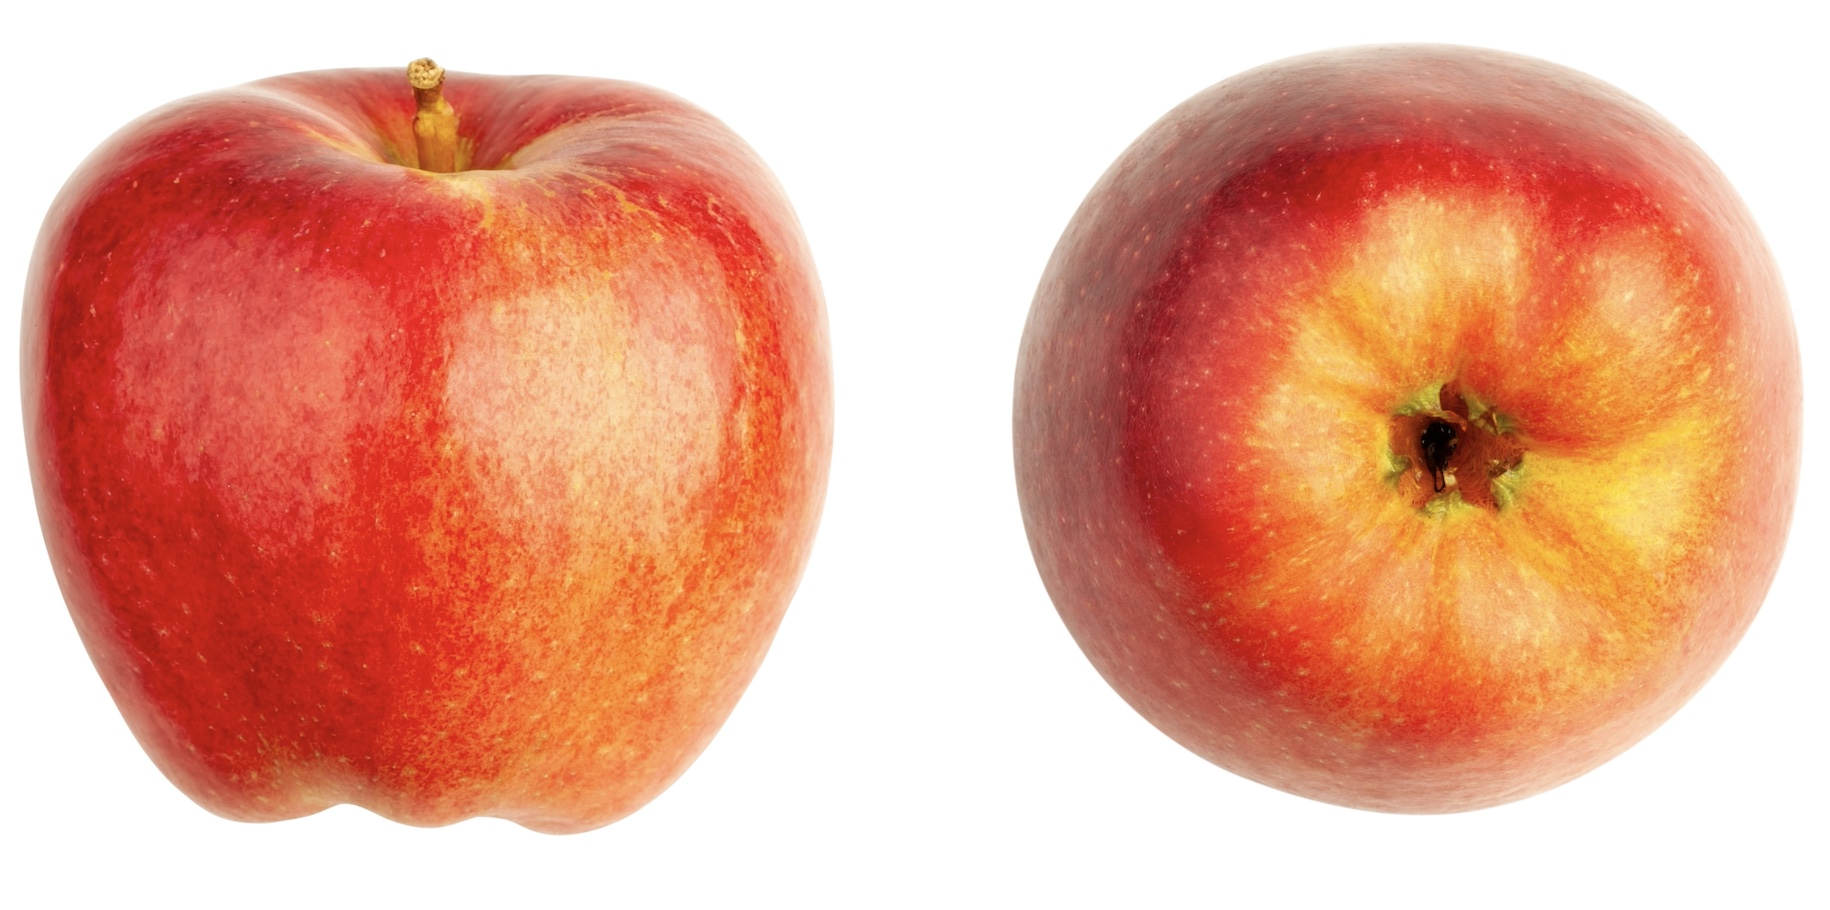apple: (1010, 33, 1812, 834), (16, 64, 839, 841)
